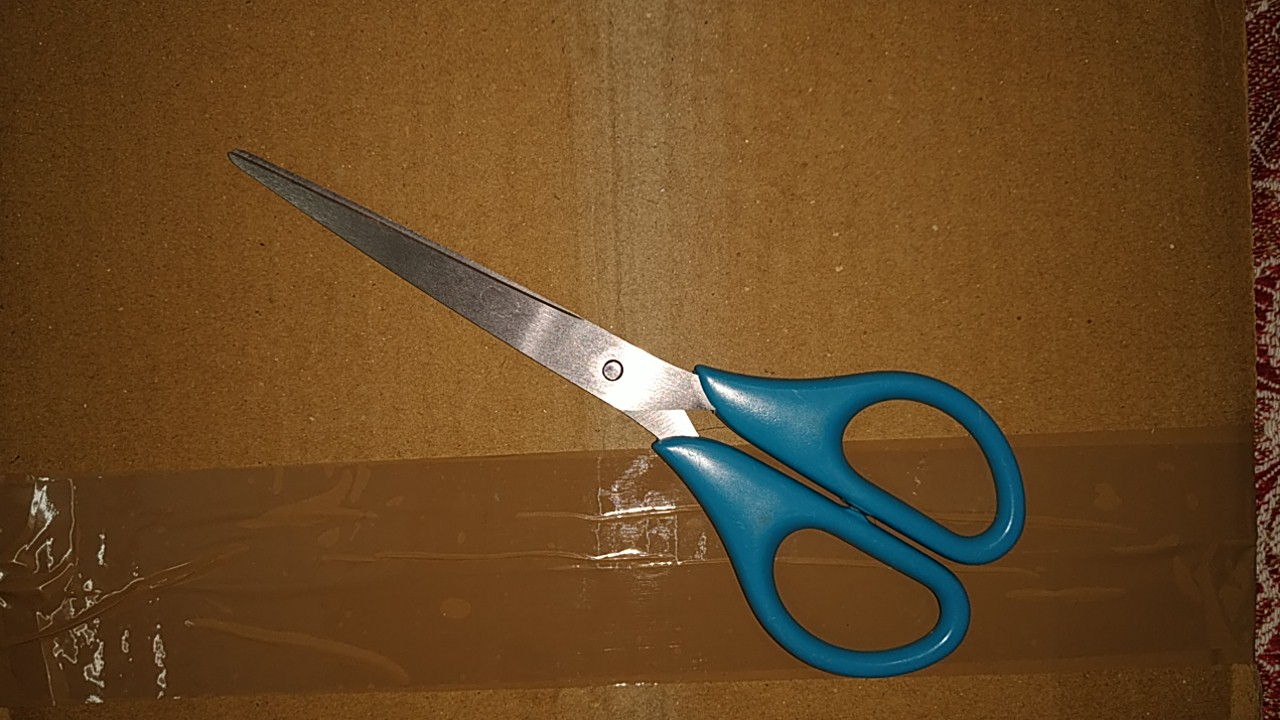scissor: (191, 133, 1042, 695)
